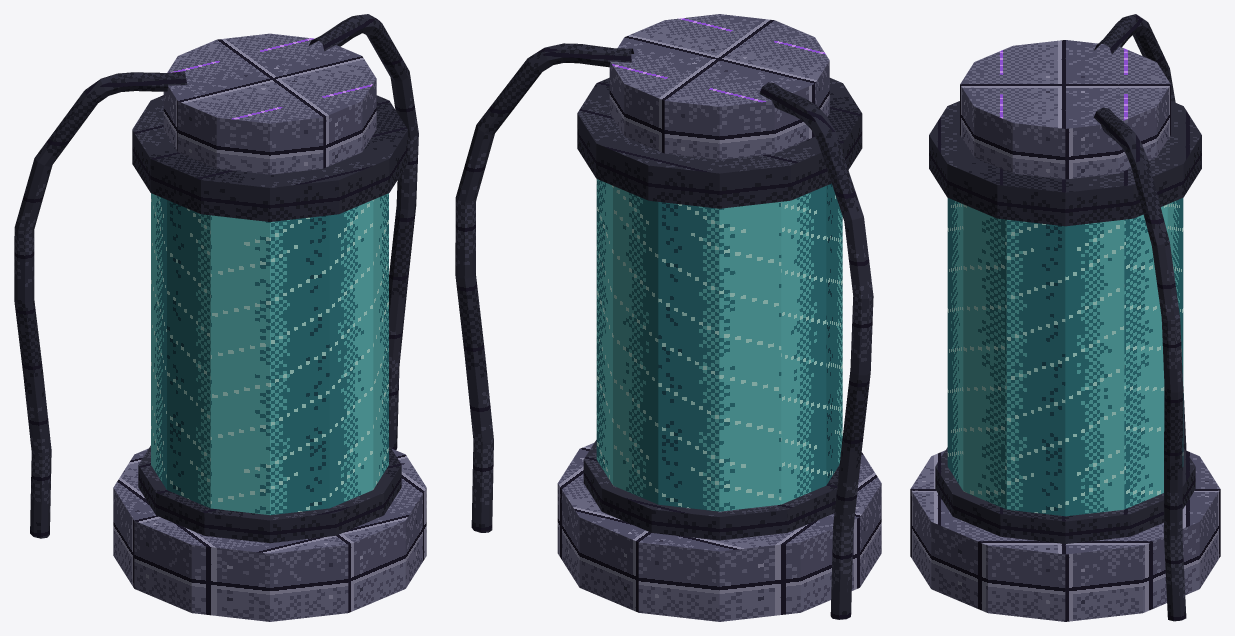
File: rush_capsule.glb
3 views of the same model, side by side, from view 1: azimuth 30°, elevation 25°; view 2: azimuth 150°, elevation 25°; view 3: azimuth 270°, elevation 25° (orthographic). The views are drawn at different scales.
Visible parts, largest first — view 1: Capsule; view 2: Capsule; view 3: Capsule.
Boxes of the visible parts, x1,y1,x2,y2 form: Capsule: [14, 14, 426, 621]; Capsule: [455, 14, 881, 621]; Capsule: [910, 14, 1220, 621].
Bounding box in the file's own units: 3.69 × 4.3 × 2.5.
Materials: 4 (3 with a texture image).
